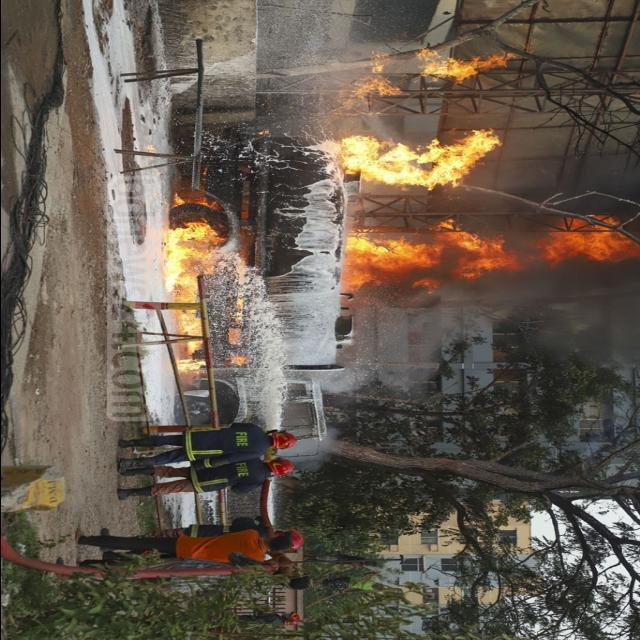Fire: (340, 55, 521, 308), (162, 215, 232, 373)
